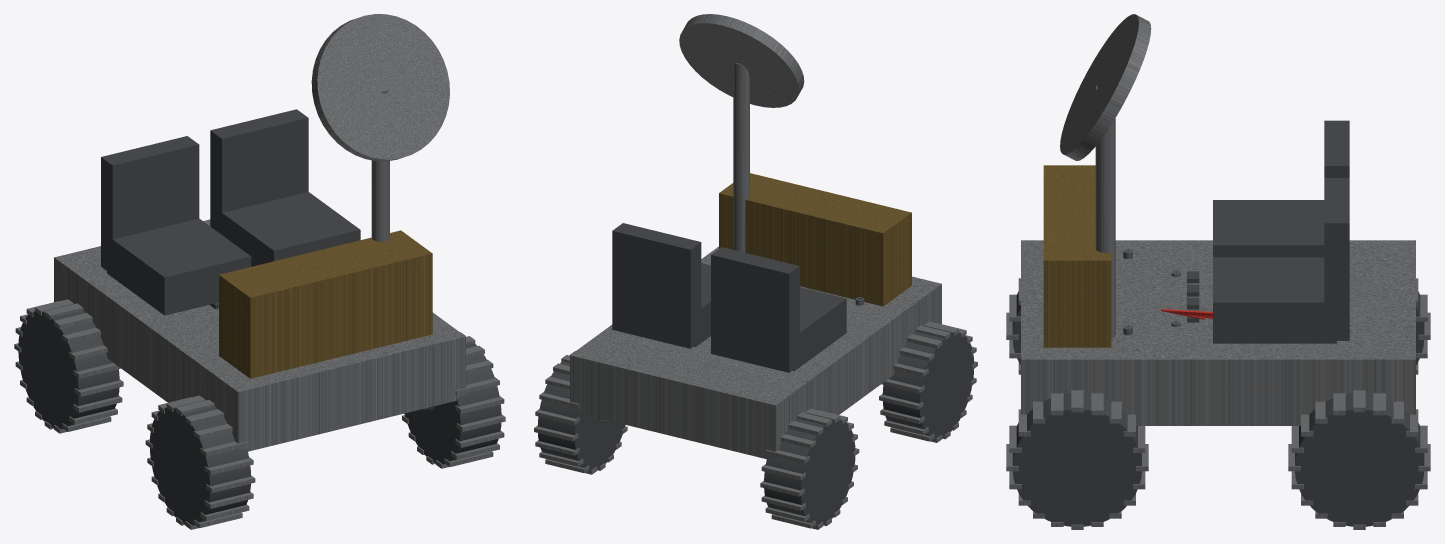
The model's file is lrv-schematic.glb.
3 renders of one model, left to right at view 1: azimuth 30°, elevation 25°; view 2: azimuth 150°, elevation 25°; view 3: azimuth 270°, elevation 25°, orthographic. The views are drawn at different scales.
Visible parts, largest first — view 1: chassis, equipment, wheel (×3), seat-back (×2), antenna-reflector, seat (×2), antenna-mast; view 2: chassis, seat-back (×2), equipment, wheel (×3), antenna-reflector, seat (×2), antenna-mast; view 3: chassis, wheel (×2), seat (×2), equipment, antenna-reflector, seat-back (×2), antenna-mast.
Boxes of the visible parts, bbox=[...] form: chassis: bbox=[54, 219, 465, 451]; equipment: bbox=[219, 230, 432, 378]; wheel (×3): bbox=[18, 310, 501, 525]; seat-back (×2): bbox=[101, 109, 308, 270]; antenna-reflector: bbox=[311, 14, 449, 161]; seat (×2): bbox=[107, 192, 360, 315]; antenna-mast: bbox=[371, 89, 389, 241]; chassis: bbox=[570, 246, 941, 459]; seat-back (×2): bbox=[612, 223, 799, 372]; equipment: bbox=[719, 173, 911, 306]; wheel (×3): bbox=[537, 331, 974, 525]; antenna-reflector: bbox=[679, 14, 804, 107]; seat (×2): bbox=[694, 263, 846, 370]; antenna-mast: bbox=[733, 62, 749, 252]; chassis: bbox=[1021, 240, 1415, 425]; wheel (×2): bbox=[1012, 393, 1424, 526]; seat (×2): bbox=[1213, 200, 1336, 343]; equipment: bbox=[1043, 165, 1111, 347]; antenna-reflector: bbox=[1060, 14, 1151, 160]; seat-back (×2): bbox=[1324, 120, 1349, 340]; antenna-mast: bbox=[1095, 85, 1115, 338].
Bounding box in the file's own units: 1.29 × 1.82 × 1.5.
7 materials, 3 textured.
